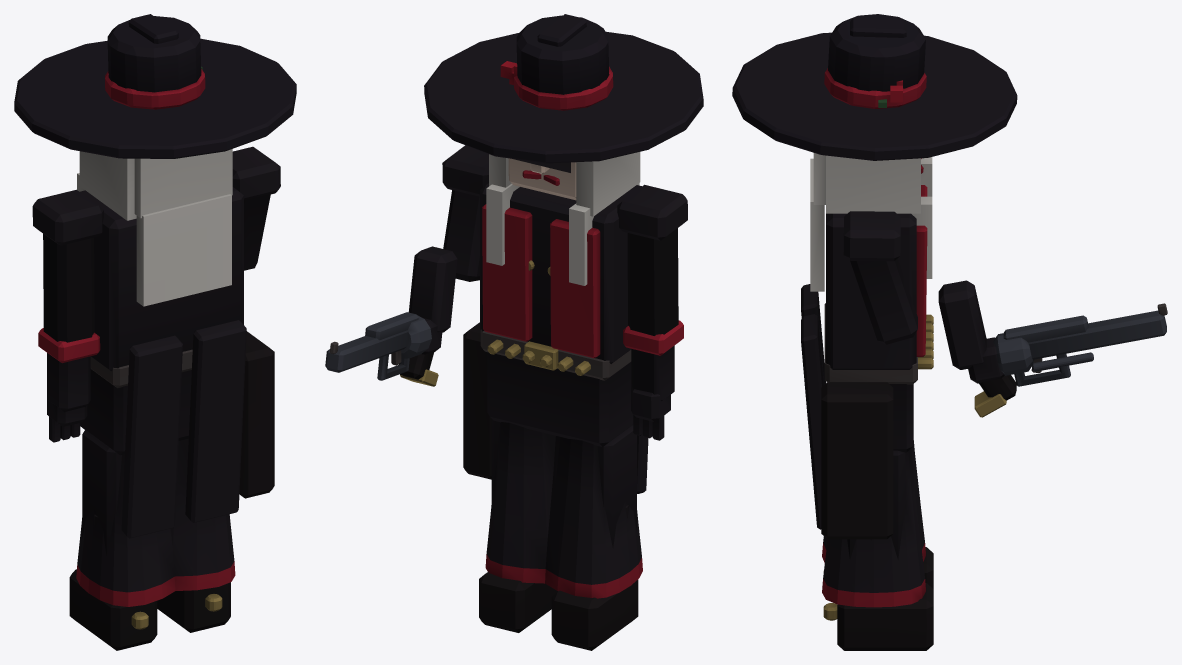
File: cowboy_widow.glb
The picture shows the model from 3 angles, left to right: view 1: azimuth 30°, elevation 25°; view 2: azimuth 150°, elevation 25°; view 3: azimuth 270°, elevation 25°; orthographic projection.
Parts seen in each view (by area): view 1: O_Hat, O_Torso, O_CoatTail_L, O_CoatTail_R, O_Pelvis, O_Gear, O_Sleeve_L, O_Hair, O_Skirt_L, O_Skirt_R, O_Shin_L, O_Leg_L (+3 smaller); view 2: O_Hat, O_Torso, O_Pelvis, O_Skirt_L, O_Skirt_R, O_Sleeve_L, O_Frame, O_Shin_L, O_Hair, O_Fore_R, O_Shin_R, O_Gear (+5 smaller); view 3: O_Hat, O_Pelvis, O_Torso, O_Frame, O_Skirt_R, O_Hair, O_Shin_R, O_Fore_R, O_Sleeve_R, O_CoatTail_R, O_Gear, O_Leg_R (+2 smaller).
Part boxes in pixels (left/top/right/bottom): O_Hat: left=14, top=14, right=296, bottom=158; O_Torso: left=32, top=146, right=280, bottom=371; O_CoatTail_L: left=121, top=335, right=182, bottom=538; O_CoatTail_R: left=185, top=320, right=246, bottom=522; O_Pelvis: left=80, top=331, right=274, bottom=498; O_Gear: left=77, top=173, right=231, bottom=306; O_Sleeve_L: left=43, top=233, right=94, bottom=442; O_Hair: left=79, top=149, right=232, bottom=220; O_Skirt_L: left=76, top=454, right=175, bottom=606; O_Skirt_R: left=171, top=438, right=235, bottom=590; O_Shin_L: left=69, top=569, right=157, bottom=650; O_Leg_L: left=82, top=430, right=121, bottom=555; O_Hat: left=424, top=14, right=703, bottom=163; O_Torso: left=442, top=145, right=687, bottom=363; O_Pelvis: left=463, top=322, right=633, bottom=479; O_Skirt_L: left=545, top=436, right=642, bottom=598; O_Skirt_R: left=485, top=422, right=555, bottom=583; O_Sleeve_L: left=627, top=228, right=678, bottom=440; O_Frame: left=325, top=312, right=438, bottom=386; O_Shin_L: left=551, top=579, right=638, bottom=650; O_Hair: left=489, top=152, right=640, bottom=216; O_Fore_R: left=408, top=246, right=457, bottom=354; O_Shin_R: left=479, top=571, right=557, bottom=632; O_Gear: left=486, top=183, right=639, bottom=285; O_Hat: left=732, top=14, right=1017, bottom=160; O_Pelvis: left=821, top=303, right=933, bottom=539; O_Torso: left=826, top=185, right=927, bottom=369; O_Frame: left=974, top=303, right=1167, bottom=417; O_Skirt_R: left=822, top=448, right=925, bottom=607; O_Hair: left=813, top=153, right=920, bottom=213; O_Shin_R: left=823, top=583, right=933, bottom=650; O_Fore_R: left=938, top=280, right=1004, bottom=383; O_Sleeve_R: left=850, top=258, right=917, bottom=344; O_CoatTail_R: left=801, top=314, right=823, bottom=529; O_Gear: left=810, top=157, right=932, bottom=291; O_Leg_R: left=847, top=450, right=905, bottom=559.
Size of the model in its own units: 1.01 by 2.34 by 1.54.
